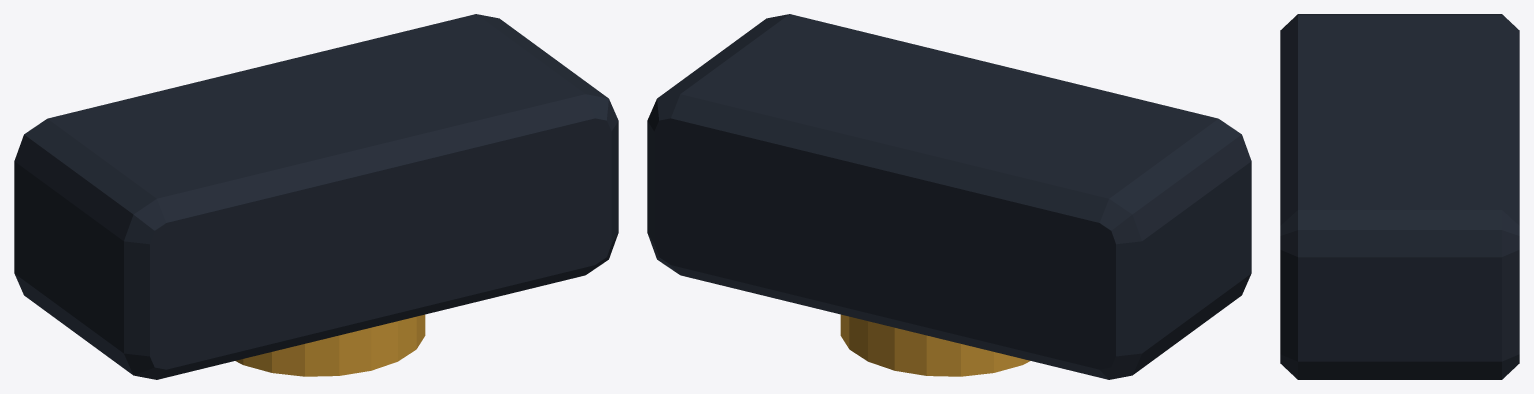
The model's file is sign_downlight.glb.
The picture shows the model from 3 angles, left to right: view 1: azimuth 30°, elevation 25°; view 2: azimuth 150°, elevation 25°; view 3: azimuth 270°, elevation 25°; orthographic projection. The views are drawn at different scales.
Visible parts, largest first — view 1: sign_downlight; view 2: sign_downlight; view 3: sign_downlight.
Boxes of the visible parts, x1,y1,x2,y2 form: sign_downlight: [14, 14, 618, 379]; sign_downlight: [647, 14, 1251, 379]; sign_downlight: [1280, 14, 1519, 379].
Size of the model in its own units: 0.12 by 0.054 by 0.054.
